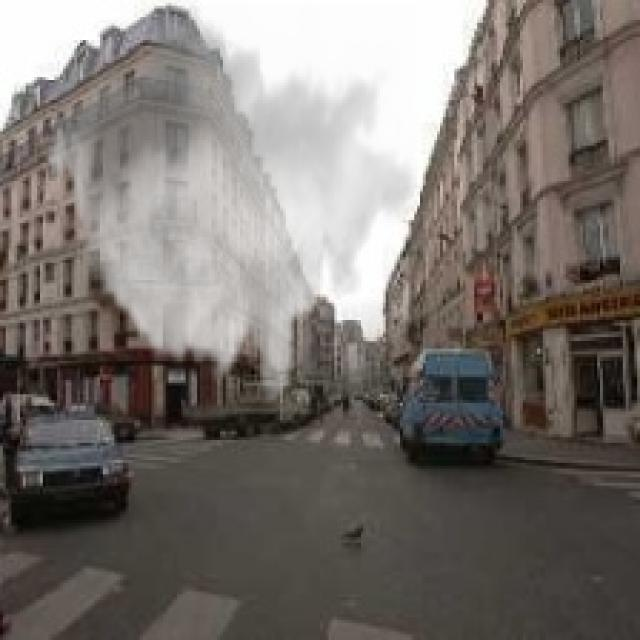smoke: (43, 6, 417, 408)
